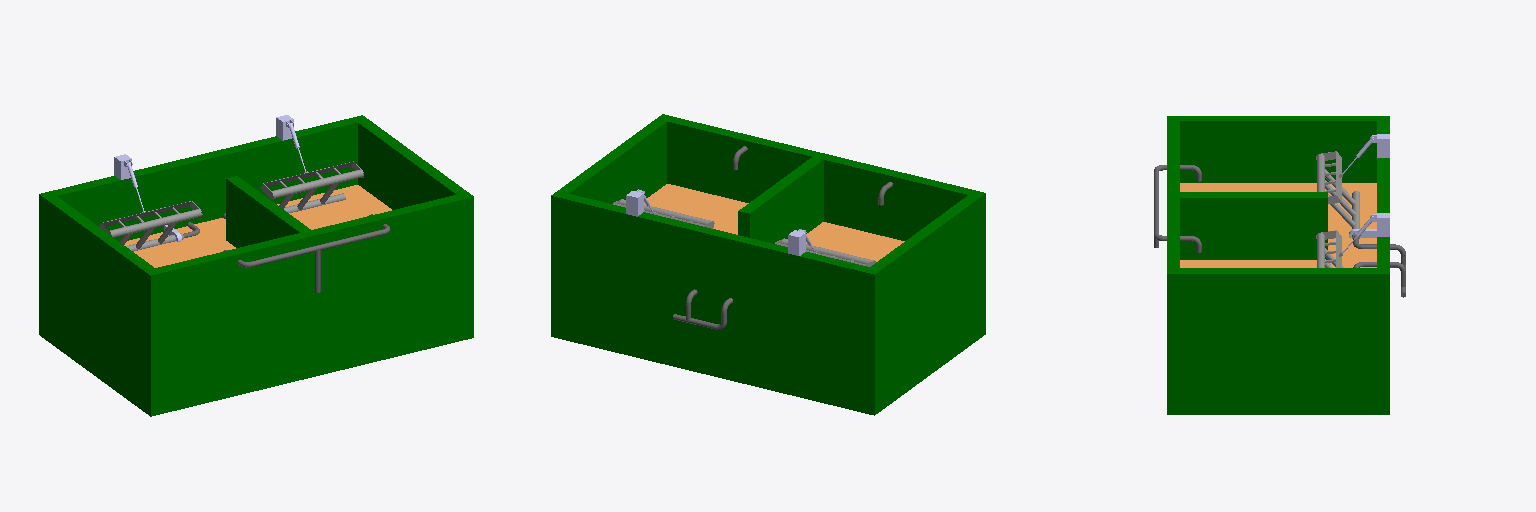
Rendered from SBR-chi.obj.
3 views of the same model, side by side, from view 1: azimuth 30°, elevation 25°; view 2: azimuth 150°, elevation 25°; view 3: azimuth 270°, elevation 25° (orthographic).
Visible parts, largest first — view 1: NONE_DC_Shell; view 2: NONE_DC_Shell; view 3: NONE_DC_Shell.
Part boxes in pixels (left/top/right/bottom): NONE_DC_Shell: left=39, top=115, right=473, bottom=416; NONE_DC_Shell: left=551, top=114, right=985, bottom=415; NONE_DC_Shell: left=1154, top=116, right=1405, bottom=414.
Bounding box in the file's own units: 14400 × 6800 × 9728.